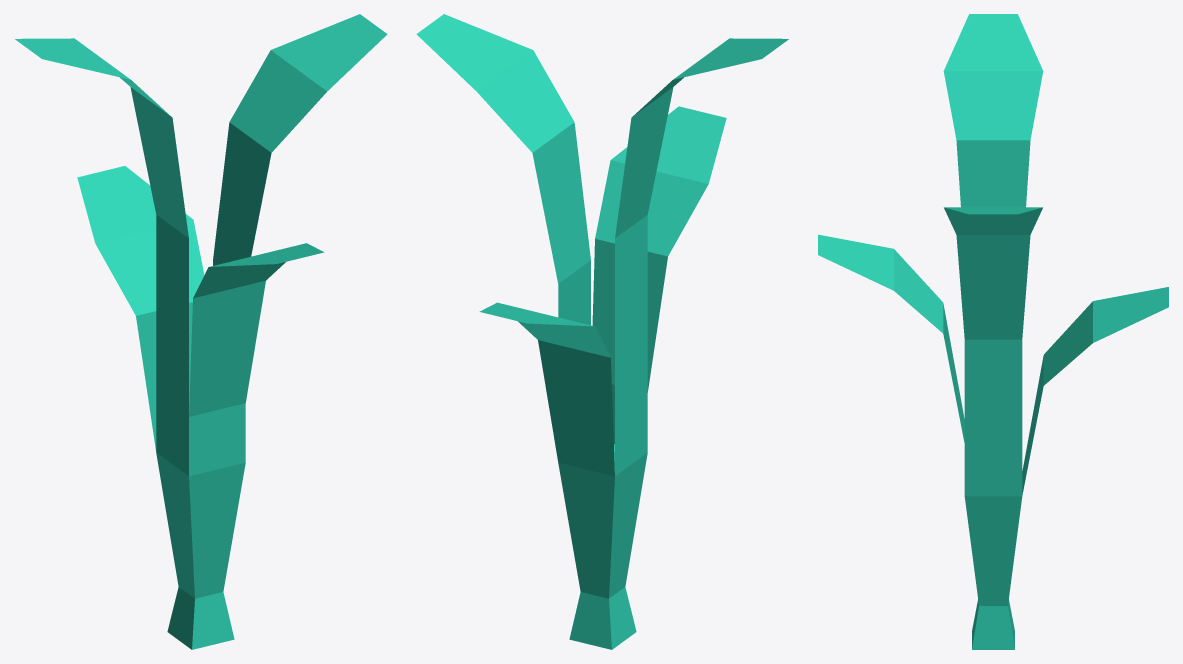
Rendered from crops_leafsStageB.dae.
The picture shows the model from 3 angles, left to right: view 1: azimuth 30°, elevation 25°; view 2: azimuth 150°, elevation 25°; view 3: azimuth 270°, elevation 25°; orthographic projection. The views are drawn at different scales.
Parts seen in each view (by area): view 1: crops_leafsStageB; view 2: crops_leafsStageB; view 3: crops_leafsStageB.
Part boxes in pixels (x1=…): crops_leafsStageB: x1=15, y1=14, x2=387, y2=649; crops_leafsStageB: x1=416, y1=14, x2=788, y2=649; crops_leafsStageB: x1=818, y1=14, x2=1168, y2=649.
Bounding box in the file's own units: 0.3894 × 0.6771 × 0.3894.
